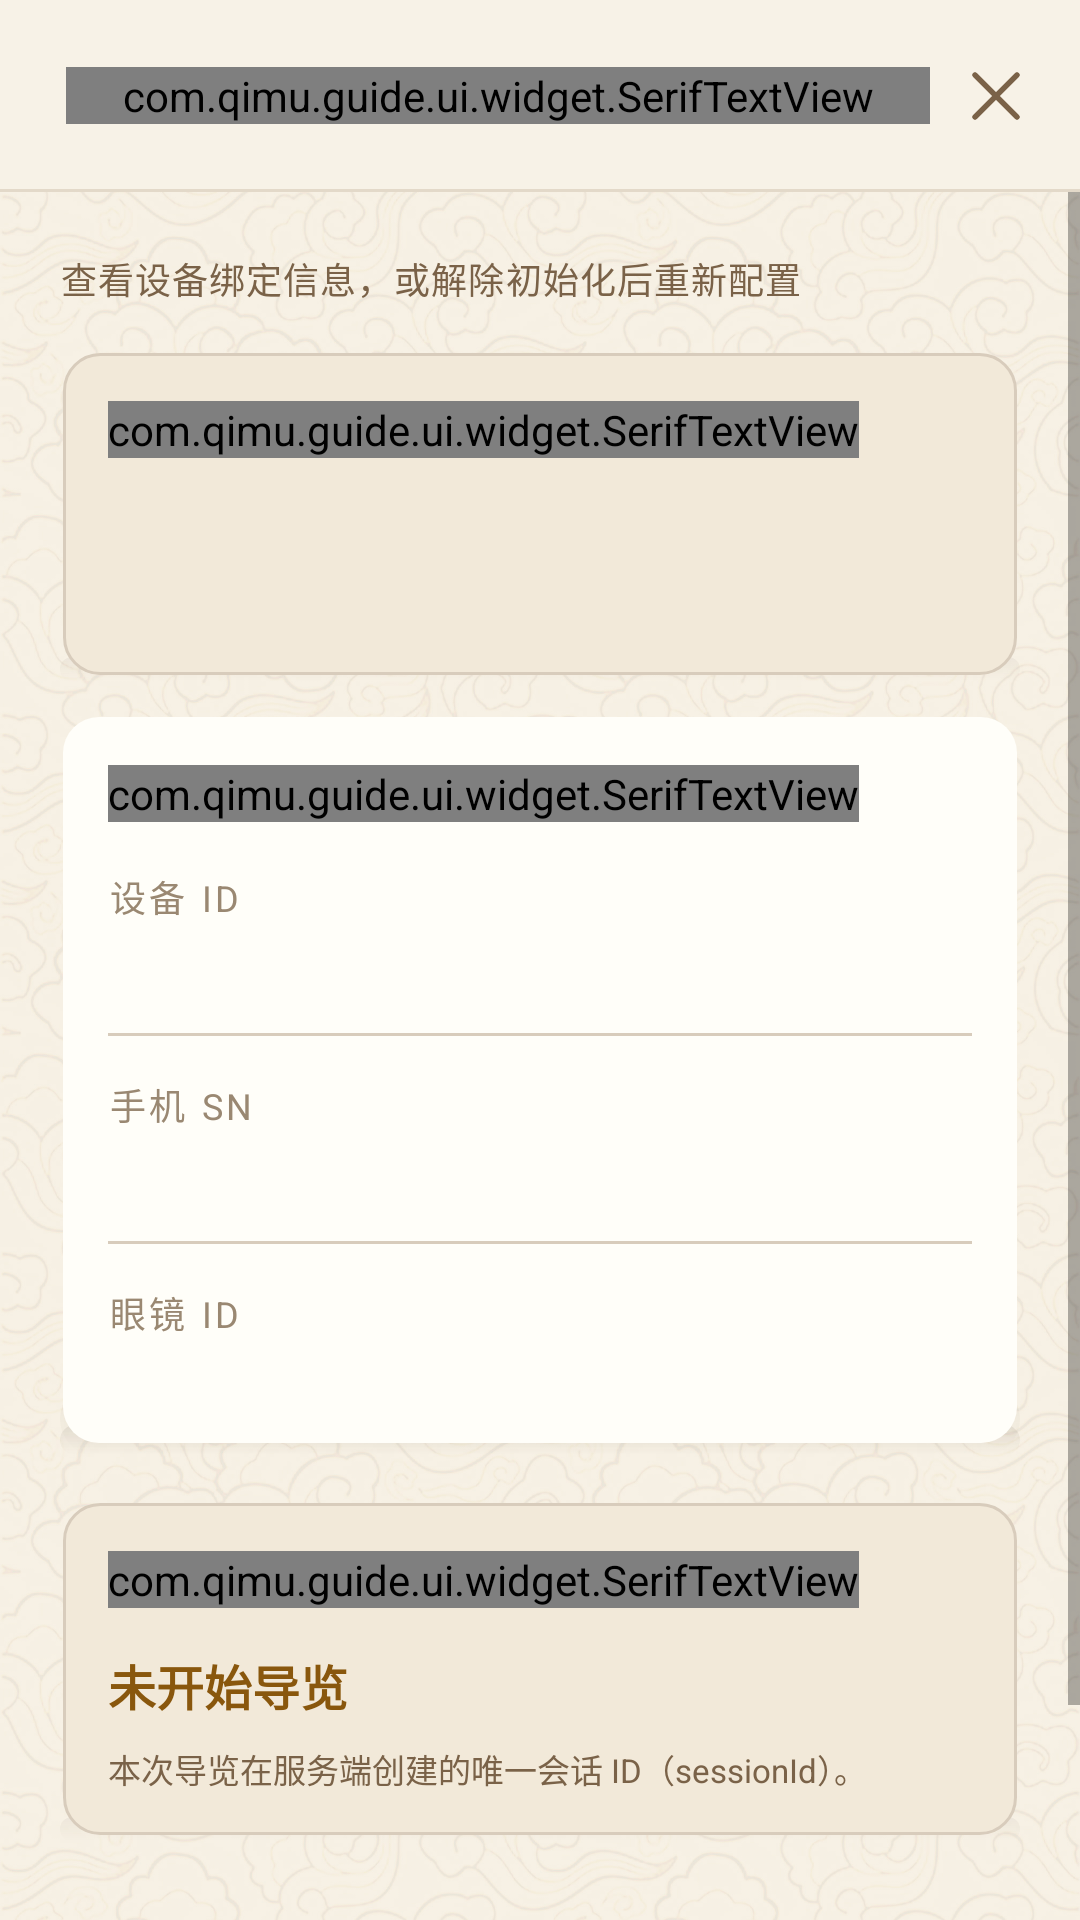

Screen size 1080x1920. Icon name, then its box in pixels as bbox=(x1, y1, x2, y2):
关闭运营配置: bbox=(972, 72, 1020, 120)
